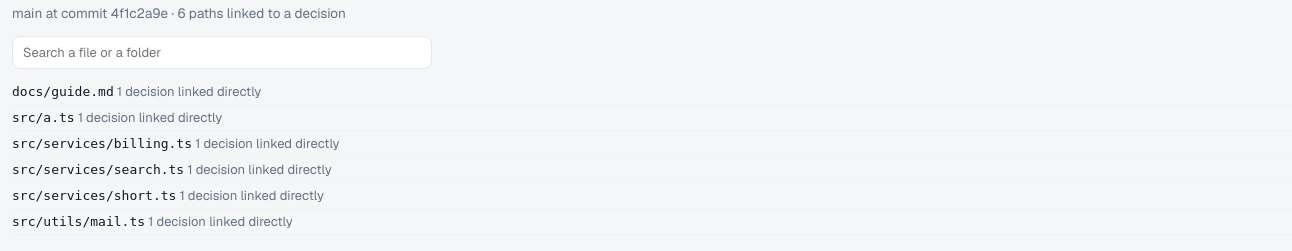
Scenario: FilesView › names the replaced decision that the file cites
Step 1. Click the button "src/a.ts" → (43, 118), box [12, 109, 75, 126]
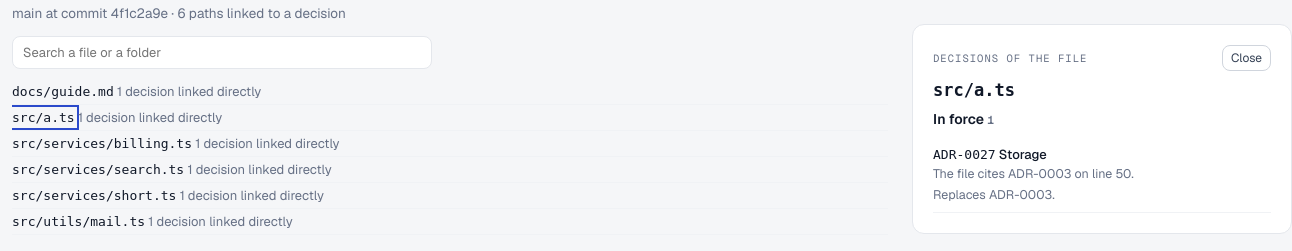
Result: the text "The file cites ADR-0003 on line 50." is shown at [933, 165, 1134, 182]
Result: the text "Replaces ADR-0003." is shown at [933, 186, 1055, 203]
